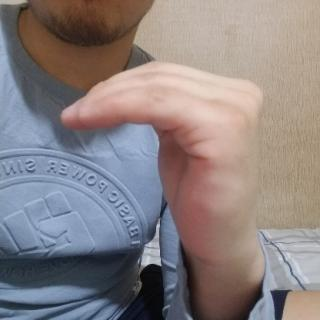HAA: (60, 55, 270, 254)
